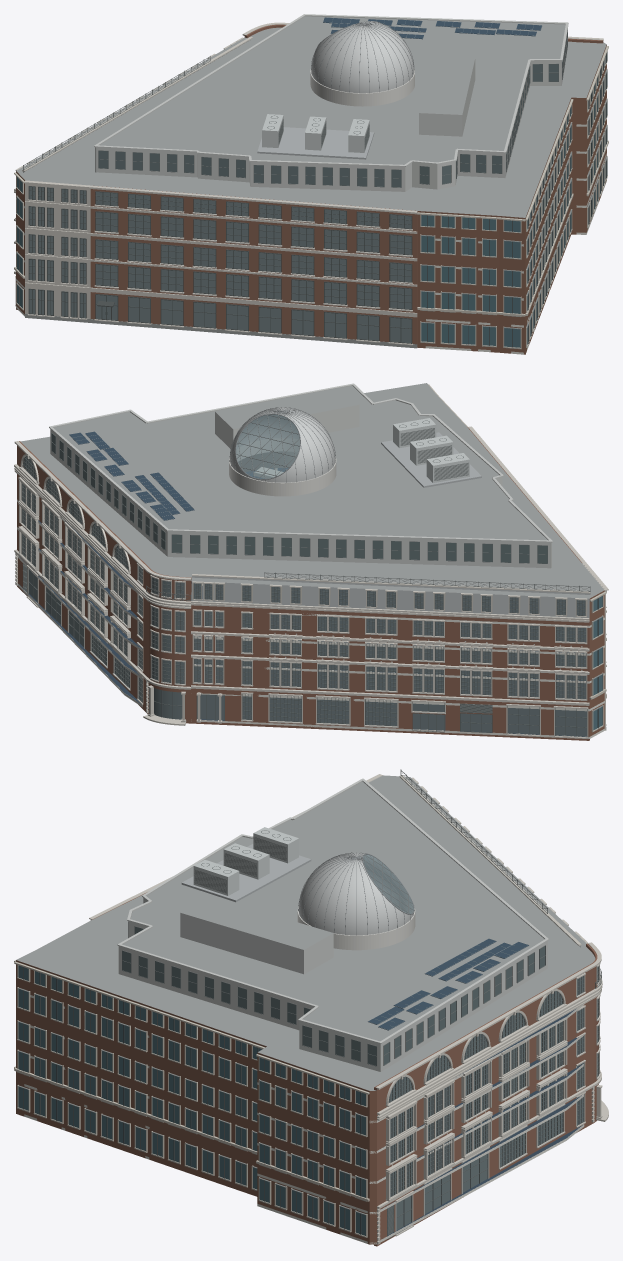
File: lrb-exterior-8522caf5d4af.glb
The picture shows the model from 3 angles, top to bottom: view 1: azimuth 30°, elevation 25°; view 2: azimuth 150°, elevation 25°; view 3: azimuth 270°, elevation 25°; orthographic projection. The views are drawn at different scales.
Parts seen in each view (by area): view 1: LRB.001; view 2: LRB.001; view 3: LRB.001.
Part boxes in pixels (x1,y1,x2,y2): LRB.001: (14,14,608,354); LRB.001: (14,383,608,740); LRB.001: (14,769,608,1246).
Bounding box in the file's own units: 89.68 × 33.13 × 70.98.
